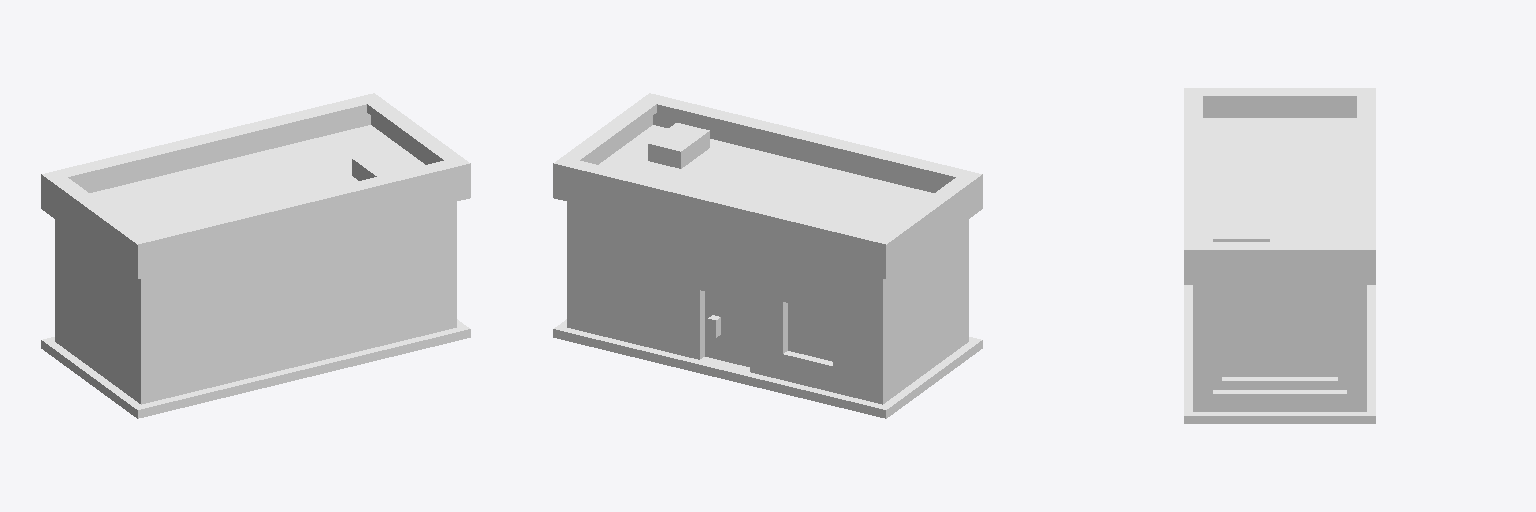
Rendered from Building2.obj.
3 views of the same model, side by side, from view 1: azimuth 30°, elevation 25°; view 2: azimuth 150°, elevation 25°; view 3: azimuth 270°, elevation 25° (orthographic).
Bounding box in the file's own units: 40 × 20 × 20.